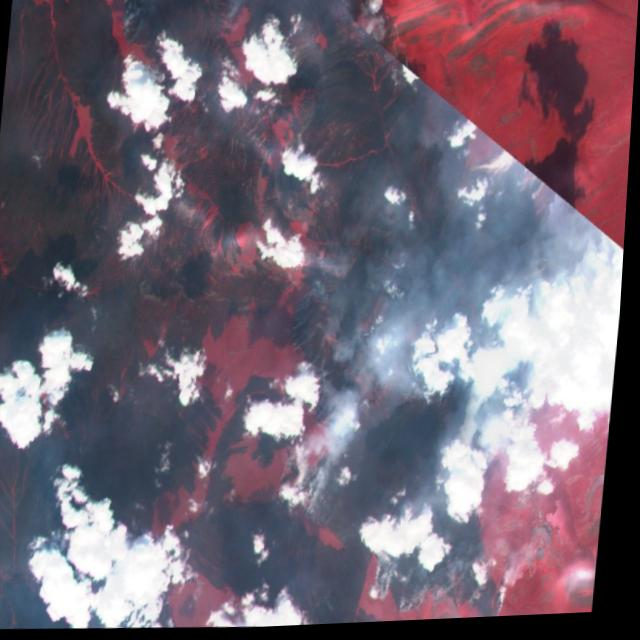fire: (261, 138, 573, 630), (102, 0, 150, 53), (202, 0, 244, 50)
